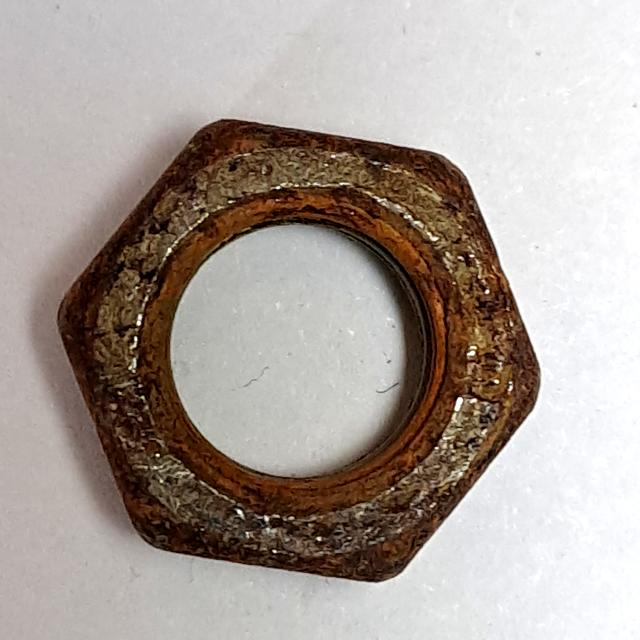Rust: (42, 107, 556, 594)
